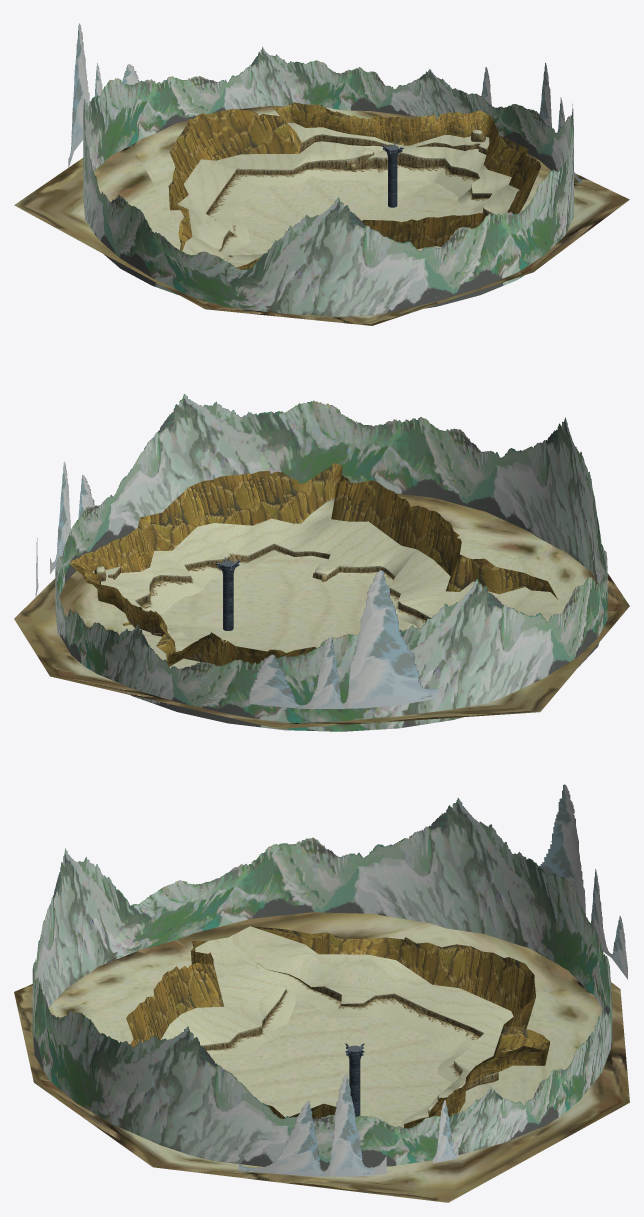
File: TowerSmall.FBX
3 views of the same model, one above another, from view 1: azimuth 30°, elevation 25°; view 2: azimuth 150°, elevation 25°; view 3: azimuth 270°, elevation 25° (orthographic). The views are drawn at different scales.
Parts seen in each view (by area): view 1: Shape_4, Shape_0, Shape_3, Shape_1, Shape_2, Shape_5, Shape_8; view 2: Shape_4, Shape_0, Shape_3, Shape_1, Shape_5, Shape_2, Shape_8; view 3: Shape_4, Shape_0, Shape_1, Shape_3, Shape_5, Shape_2, Shape_8.
Boxes of the visible parts, box(x1,y1,x2,y2) form: Shape_4: box(83, 46, 573, 316); Shape_0: box(14, 106, 629, 325); Shape_3: box(168, 102, 540, 269); Shape_1: box(171, 122, 519, 267); Shape_2: box(206, 131, 493, 257); Shape_5: box(68, 23, 581, 184); Shape_8: box(386, 151, 398, 207); Shape_4: box(55, 394, 607, 731); Shape_0: box(14, 493, 629, 728); Shape_3: box(69, 463, 557, 666); Shape_1: box(92, 498, 560, 651); Shape_5: box(35, 461, 444, 708); Shape_2: box(94, 543, 431, 662); Shape_8: box(221, 566, 235, 630); Shape_4: box(32, 798, 612, 1169); Shape_0: box(14, 912, 629, 1202); Shape_1: box(160, 926, 541, 1127); Shape_3: box(126, 926, 549, 1128); Shape_5: box(238, 784, 627, 1176); Shape_2: box(202, 970, 498, 1113); Shape_8: box(348, 1053, 360, 1116).
Bounding box in the file's own units: 2672 × 938 × 2515.
